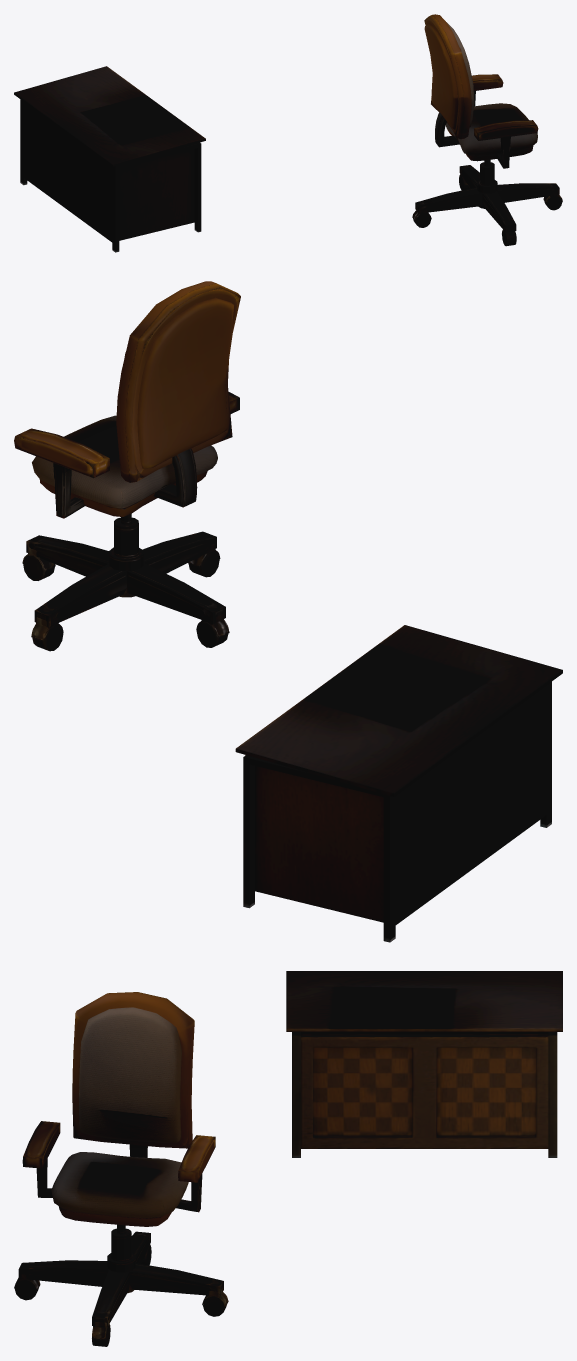
File: G2_SM_chaise+coffre_combined.gltf
3 renders of one model, top to bottom at view 1: azimuth 30°, elevation 25°; view 2: azimuth 150°, elevation 25°; view 3: azimuth 270°, elevation 25°, orthographic. The views are drawn at different scales.
Visible parts, largest first — view 1: Coffre et chaise; view 2: Coffre et chaise; view 3: Coffre et chaise.
Part boxes in pixels (left/top/right/bottom): Coffre et chaise: left=14, top=14, right=562, bottom=252; Coffre et chaise: left=14, top=281, right=562, bottom=942; Coffre et chaise: left=14, top=971, right=562, bottom=1346.
Size of the model in its own units: 1.99 by 1.03 by 1.78.
1 material, 1 textured.
